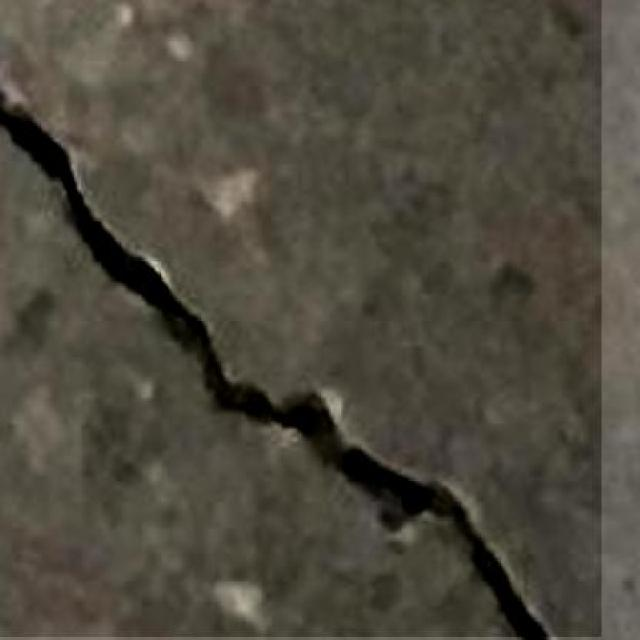Crack: (2, 100, 556, 630)
